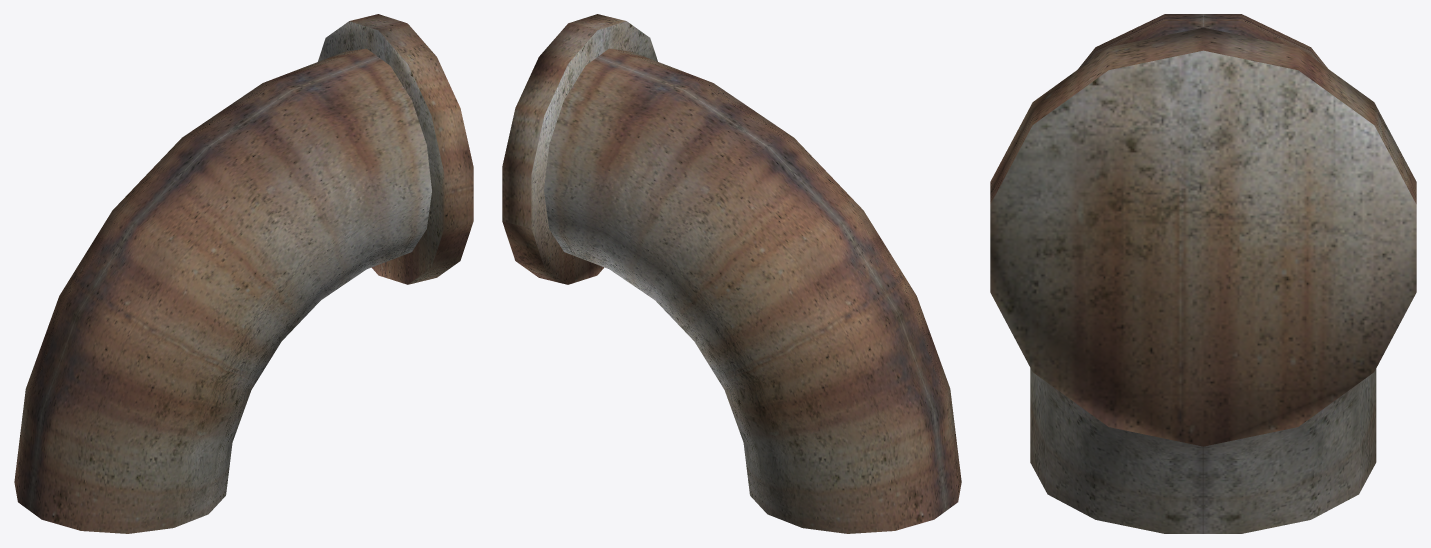
File: pipe_8_lod1.obj
3 renders of one model, left to right at view 1: azimuth 30°, elevation 25°; view 2: azimuth 150°, elevation 25°; view 3: azimuth 270°, elevation 25°, orthographic. The views are drawn at different scales.
Visible parts, largest first — view 1: pipe_8_lod1.obj; view 2: pipe_8_lod1.obj; view 3: pipe_8_lod1.obj.
Part boxes in pixels (box(x1,y1,x2,y2)): pipe_8_lod1.obj: box(14, 14, 473, 533); pipe_8_lod1.obj: box(502, 14, 961, 533); pipe_8_lod1.obj: box(990, 14, 1416, 533).
Bounding box in the file's own units: 2.01 × 2.01 × 1.22.
1 material, 1 textured.
